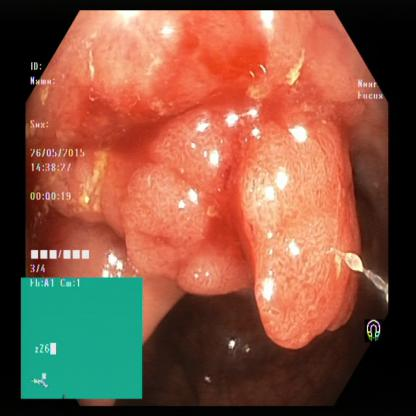Labels: (22, 275, 142, 400), (28, 63, 95, 276), (363, 318, 400, 361)
Polyps: (253, 140, 358, 338), (122, 134, 188, 268), (157, 118, 235, 184), (184, 255, 242, 301)
